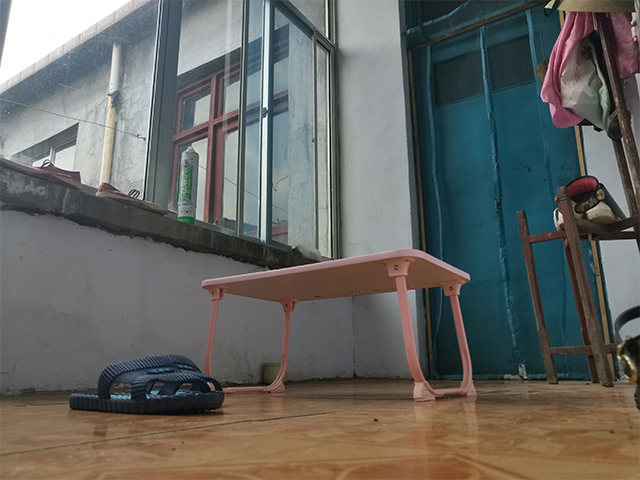slippers: (67, 350, 227, 415)
stool: (197, 246, 479, 404)
